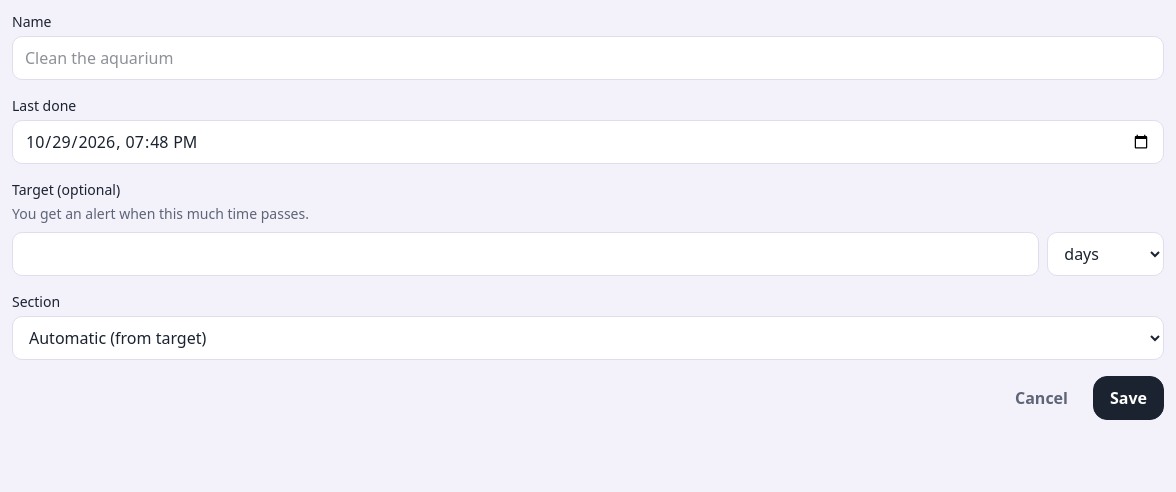
Test: TimerForm › rejects a start time in the future
Type "Aquarium" into the field named "name". click: (588, 58)
box: [12,36,1164,80]
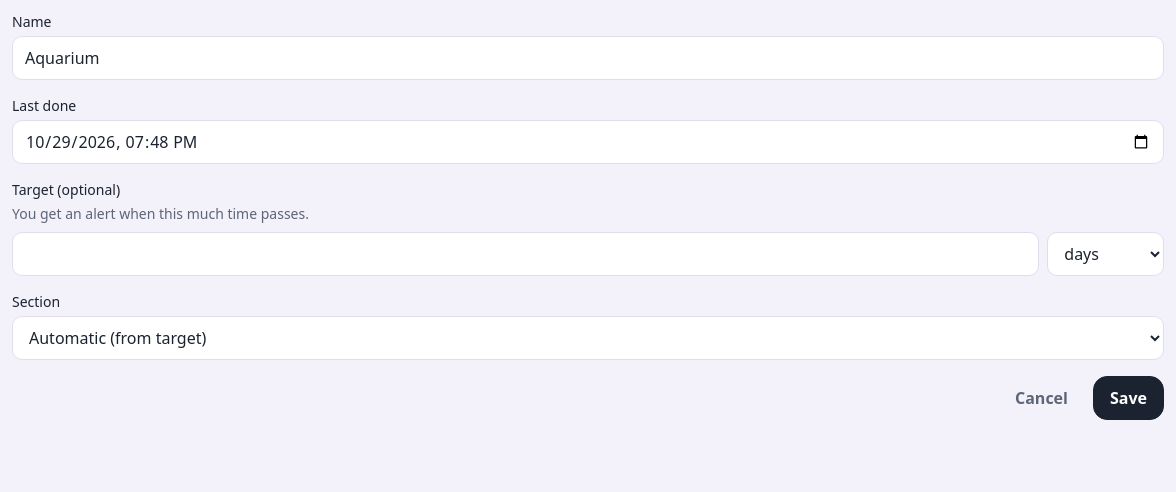
Replace the text in the field named "started" with "2999-01-01T00:00". click: (588, 142)
box: [12,120,1164,164]
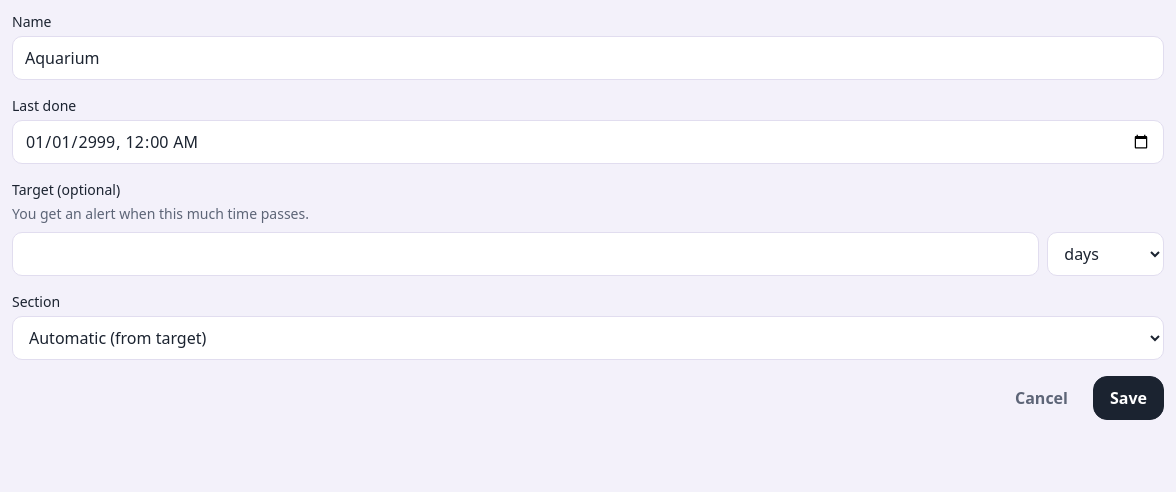
Submit the form
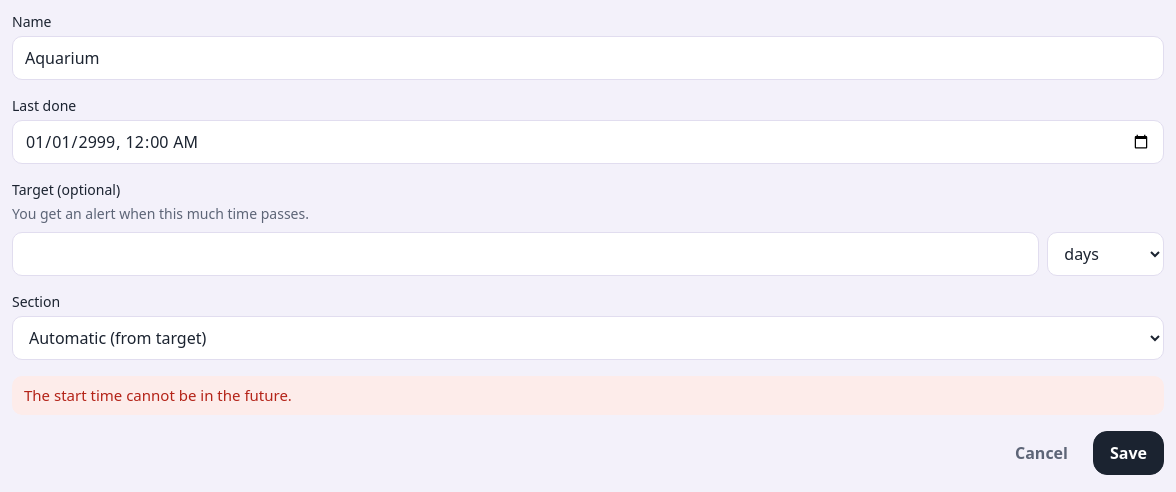
Expected: the message "The start time cannot be in the future." is shown, [12,376,1164,414]
